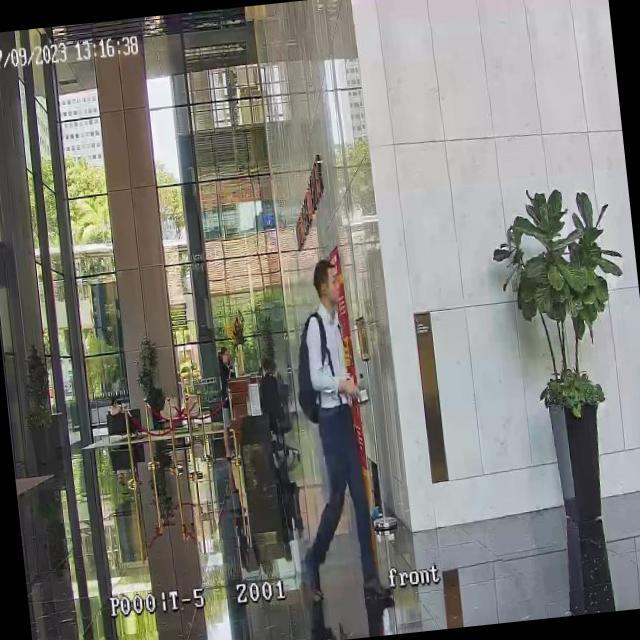person: (272, 256, 385, 604), (210, 344, 240, 466), (256, 358, 283, 422)
